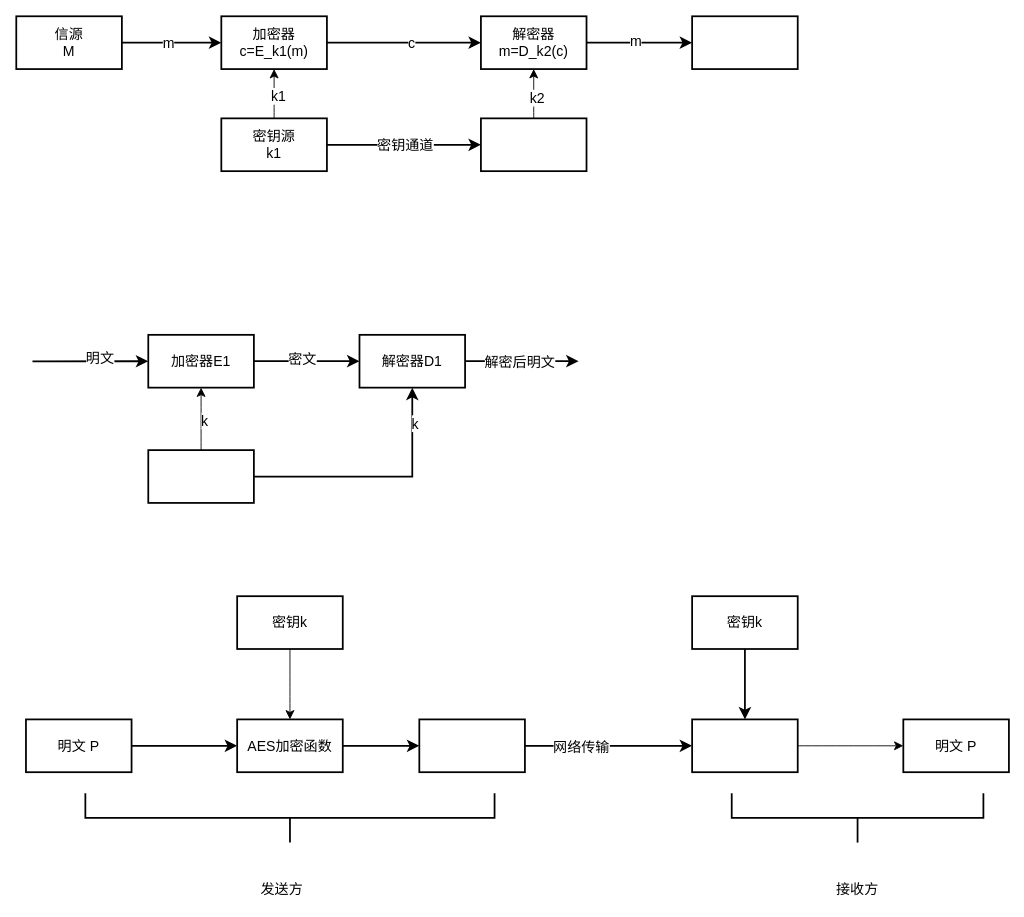
This 1024x917 diagram has some shape labels left out. The centre of each missing label's shape, as x and y in pixels:
"AES解密函数" goes at [744,745].
"密文 C" goes at [471,745].
"密钥产生器" goes at [200,476].
"密钥源" goes at [533,144].
"接收者" goes at [744,42].
